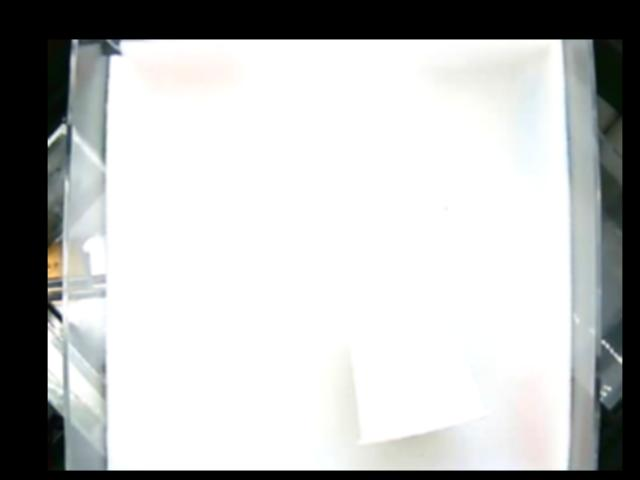Cup: (349, 290, 493, 443)
